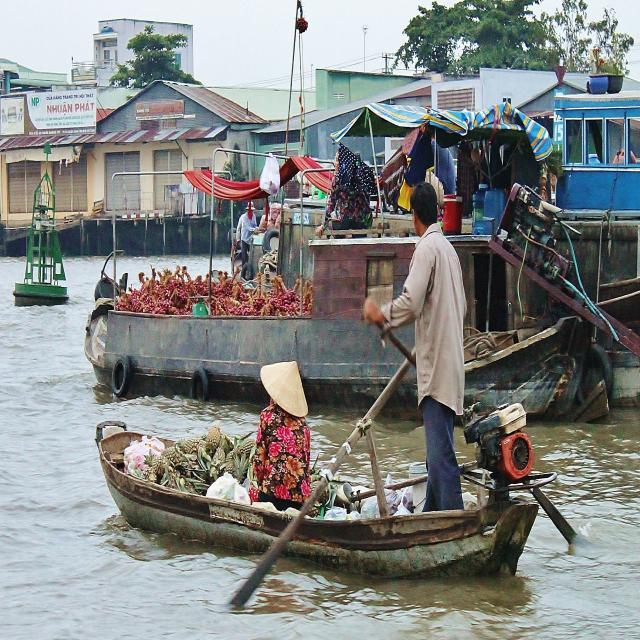boat: (69, 226, 584, 406), (92, 418, 550, 583)
